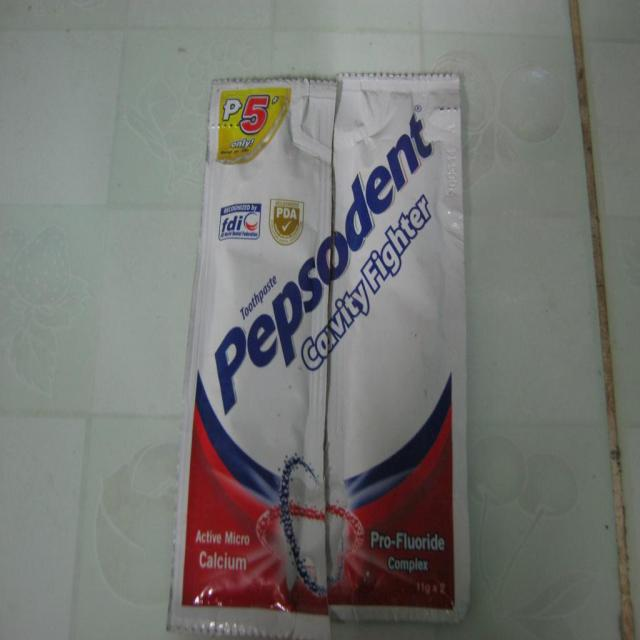Toothpaste: (165, 68, 470, 637)
